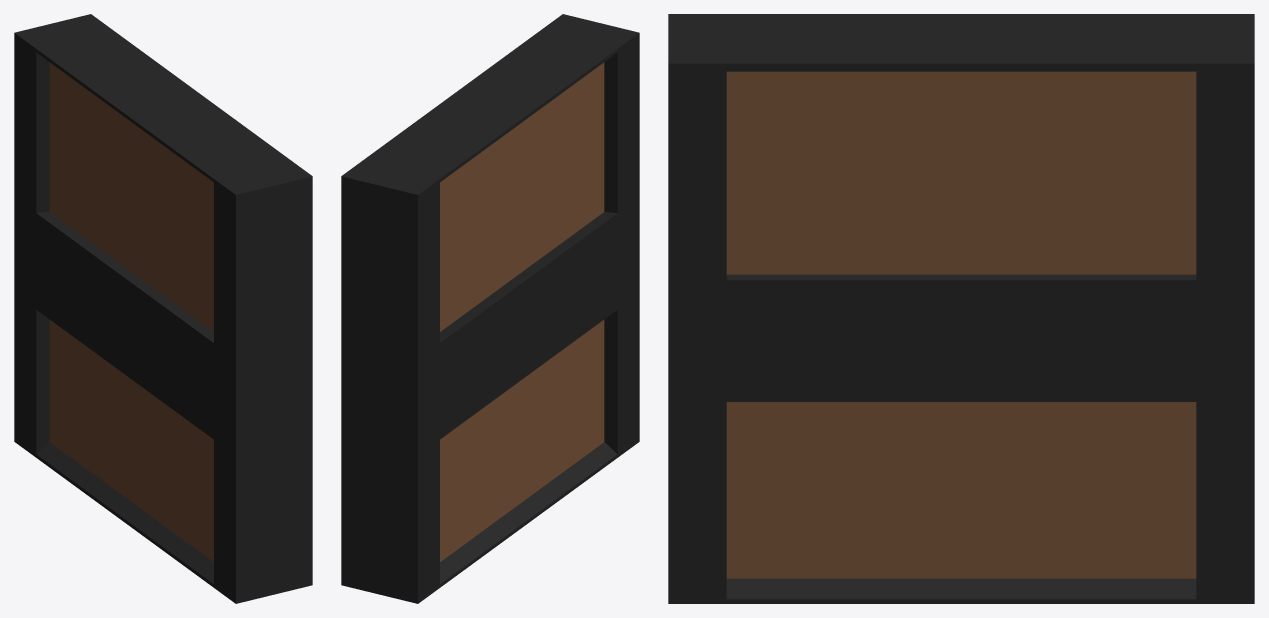
The model's file is puerta.fbx.
The picture shows the model from 3 angles, left to right: view 1: azimuth 30°, elevation 25°; view 2: azimuth 150°, elevation 25°; view 3: azimuth 270°, elevation 25°; orthographic projection. The views are drawn at different scales.
Visible parts, largest first — view 1: pCube1; view 2: pCube1; view 3: pCube1.
Boxes of the visible parts, left/top/right/bottom form: pCube1: left=14, top=14, right=312, bottom=603; pCube1: left=341, top=14, right=639, bottom=603; pCube1: left=668, top=14, right=1254, bottom=603.
Size of the model in its own units: 1 by 5.09 by 5.
